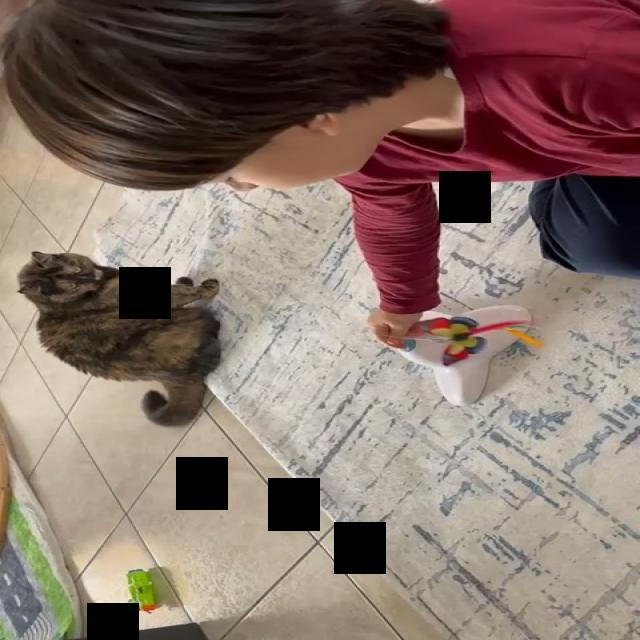authorized: (16, 250, 223, 426)
